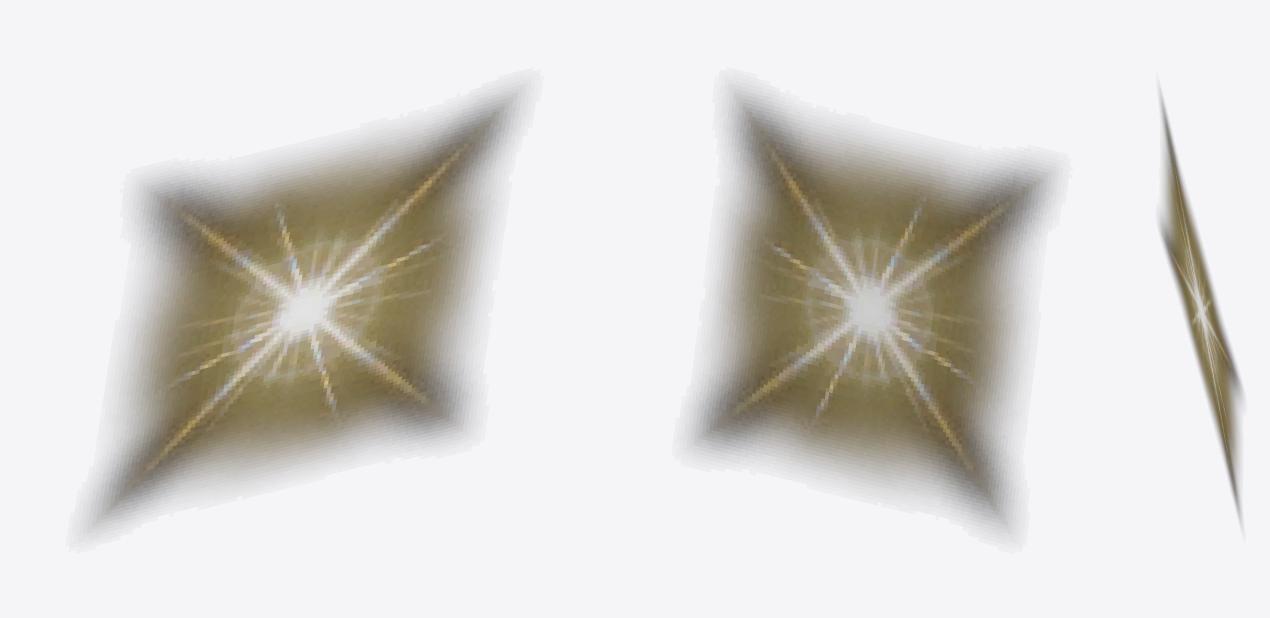
File: stage-indu-p4-225.glb
3 views of the same model, side by side, from view 1: azimuth 30°, elevation 25°; view 2: azimuth 150°, elevation 25°; view 3: azimuth 270°, elevation 25° (orthographic). The views are drawn at different scales.
Size of the model in its own units: 3.31 by 3.21 by 0.8.
Materials: 1 (1 with a texture image).
